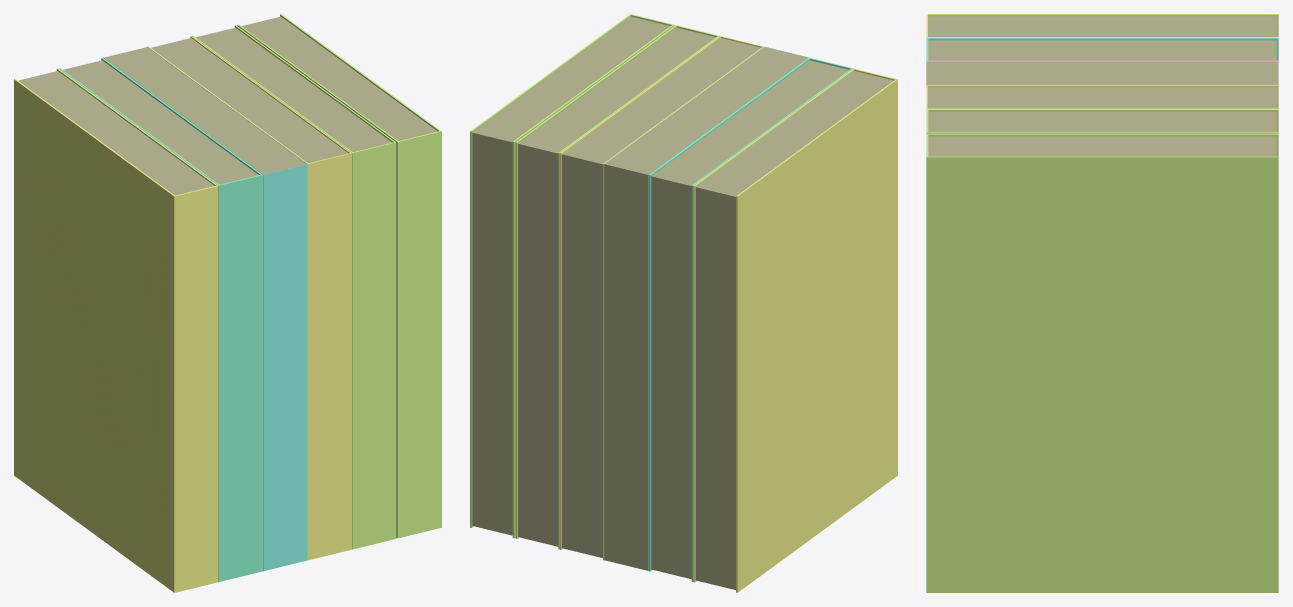
Rendered from Books 6 pcs.fbx.
The picture shows the model from 3 angles, left to right: view 1: azimuth 30°, elevation 25°; view 2: azimuth 150°, elevation 25°; view 3: azimuth 270°, elevation 25°; orthographic projection. The views are drawn at different scales.
Parts seen in each view (by area): view 1: Book Combined; view 2: Book Combined; view 3: Book Combined.
Part boxes in pixels (bbox=[...]): Book Combined: bbox=[14, 14, 441, 592]; Book Combined: bbox=[470, 14, 897, 592]; Book Combined: bbox=[926, 14, 1278, 592].
Size of the model in its own units: 21.18 by 30 by 22.
